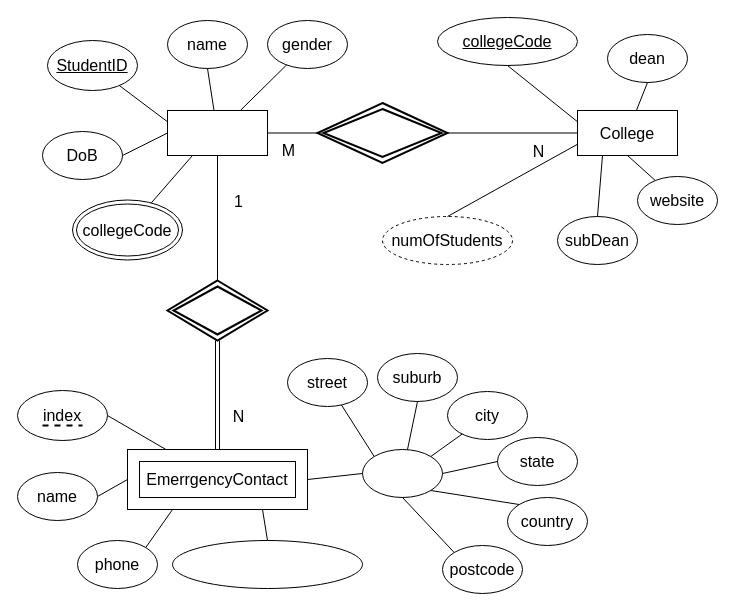
Image size: 735x611. Some labels were removed from this diagram. The shapes that lost their labels are listed below. From the top down, each one's centre as x and y in pixels, then its label:
pixel 217 133: Student
pixel 382 133: belongs_to
pixel 217 310: Has
pixel 402 473: address
pixel 267 564: relationshipToStudent
